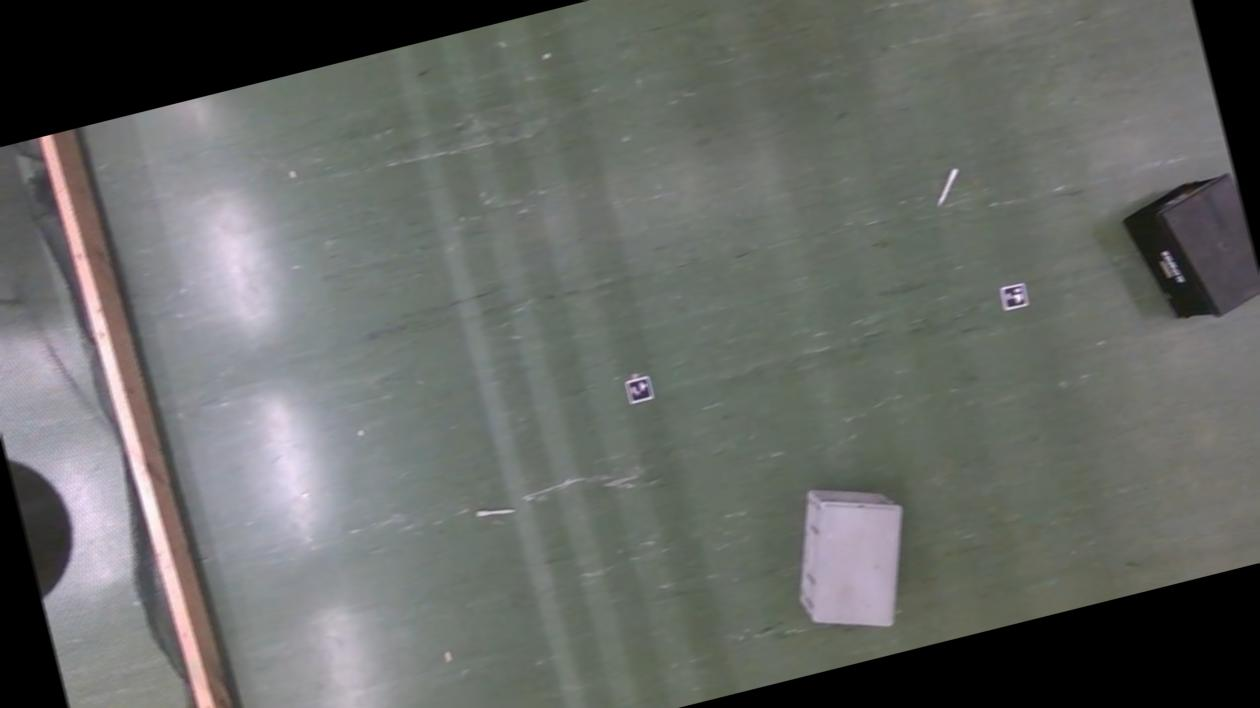probes: (930, 167, 962, 204), (475, 501, 514, 521)
rako: (774, 467, 929, 643), (1116, 167, 1260, 332)
